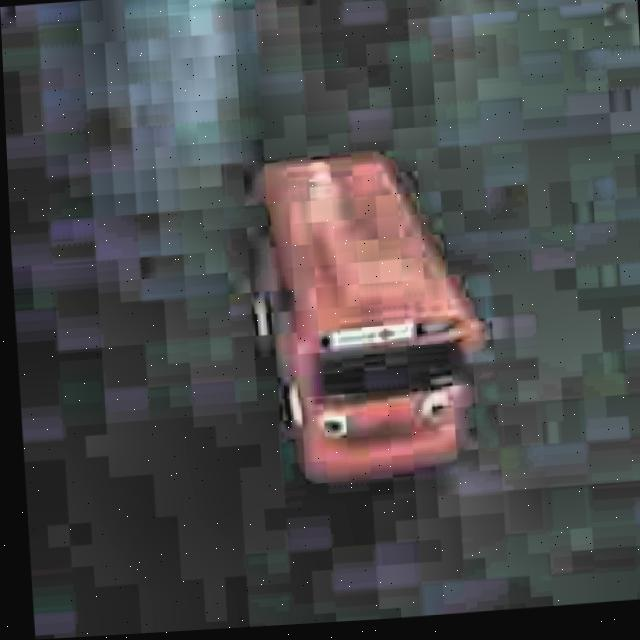bus: (223, 137, 512, 500)
